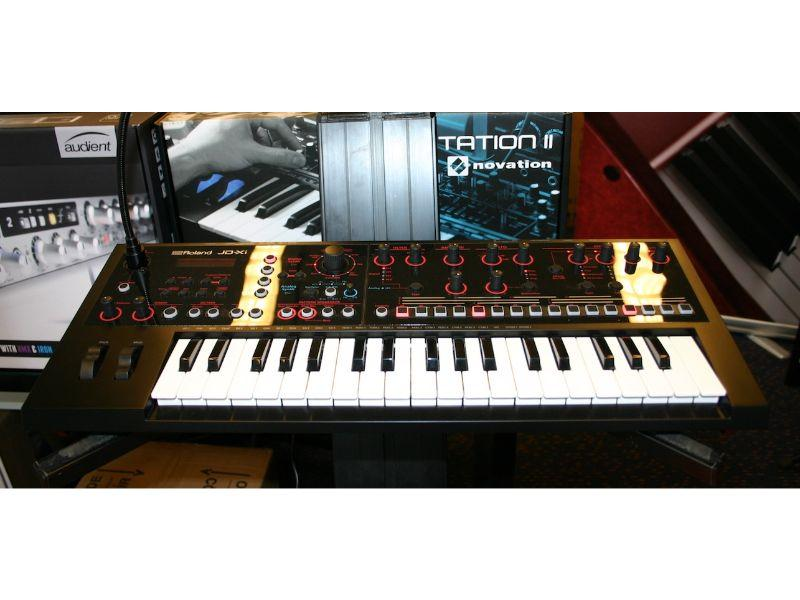synthesizer: (22, 236, 763, 430)
